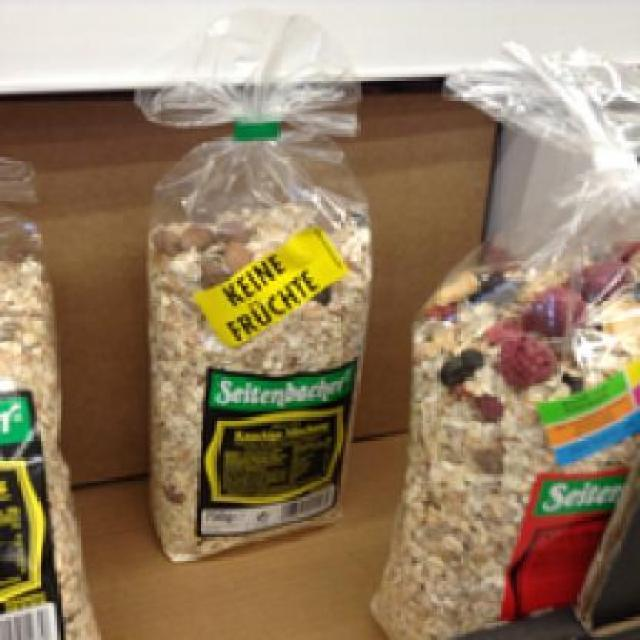Cereal: (363, 248, 634, 638), (143, 123, 366, 563)
